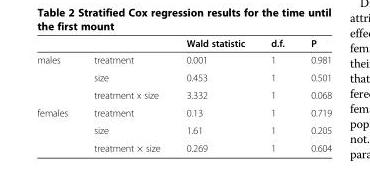table: (36, 37, 331, 153)
table column: (80, 37, 172, 153), (172, 37, 257, 153), (36, 37, 80, 153), (257, 37, 297, 153), (297, 37, 331, 153)
table column header: (36, 37, 331, 51)
table row: (36, 85, 331, 103), (36, 103, 331, 121), (36, 51, 331, 68), (36, 68, 331, 85), (36, 121, 331, 138), (36, 138, 331, 153), (36, 37, 331, 51)
table spanning cell: (36, 51, 80, 103), (36, 103, 80, 153)
